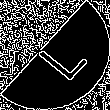L_NW: (24, 27, 86, 83)
